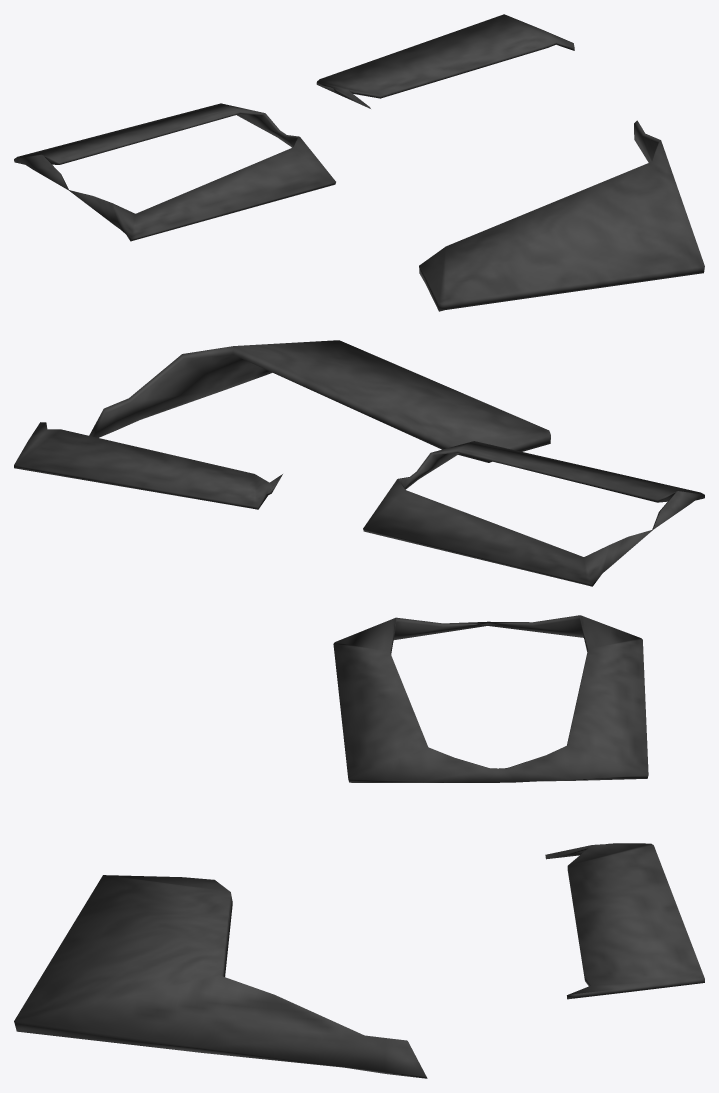
Rendered from TentScraps_Black.obj.
3 renders of one model, top to bottom at view 1: azimuth 30°, elevation 25°; view 2: azimuth 150°, elevation 25°; view 3: azimuth 270°, elevation 25°, orthographic. The views are drawn at different scales.
Parts seen in each view (by area): view 1: TentScraps.001_Material, TentScraps.002_Material, TentScraps_Material; view 2: TentScraps.001_Material, TentScraps.002_Material, TentScraps_Material; view 3: TentScraps.001_Material, TentScraps.002_Material, TentScraps_Material.
Boxes of the visible parts, x1,y1,x2,y2 form: TentScraps.001_Material: (419, 120, 704, 311); TentScraps.002_Material: (14, 103, 335, 241); TentScraps_Material: (316, 14, 574, 108); TentScraps.001_Material: (89, 340, 550, 462); TentScraps.002_Material: (363, 441, 704, 586); TentScraps_Material: (14, 422, 282, 509); TentScraps.001_Material: (14, 875, 427, 1078); TentScraps.002_Material: (333, 615, 648, 782); TentScraps_Material: (545, 843, 704, 999).
Size of the model in its own units: 5.78 by 0.8765 by 4.6.
